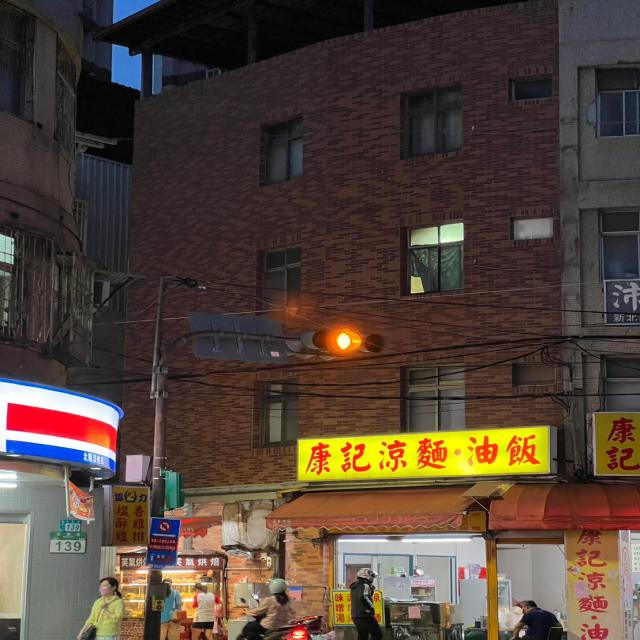yellow light: (306, 327, 391, 358)
